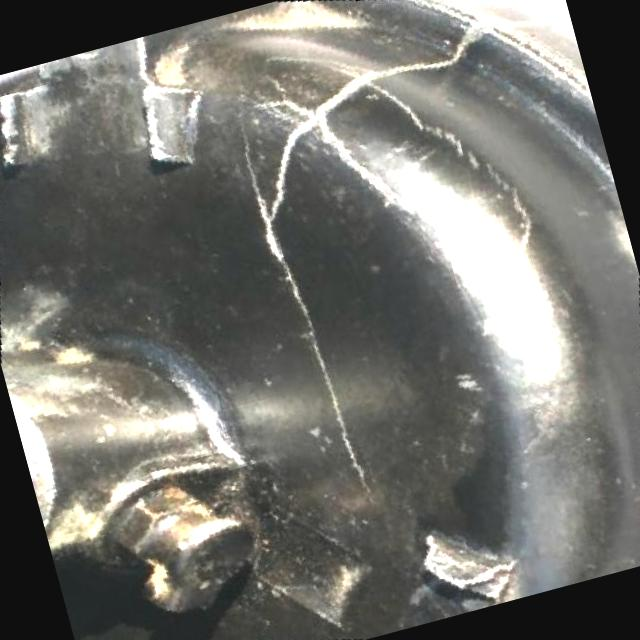crack: (232, 116, 364, 489), (368, 45, 458, 87), (322, 107, 368, 180), (279, 114, 326, 159), (254, 160, 292, 212), (316, 76, 369, 112)
